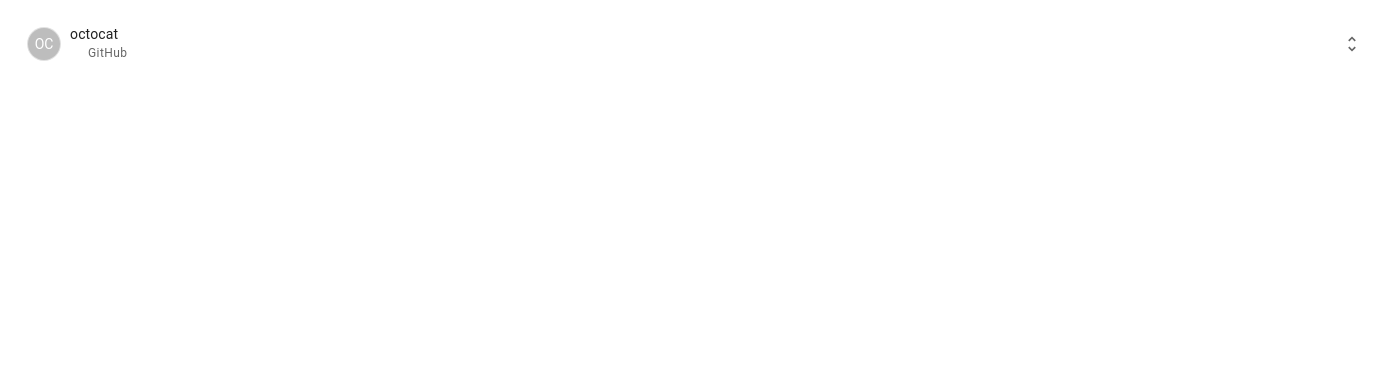
Test: Account › the open panel shows the header, the items with their icons and the theme parts
Click the button "OC octocat GitHub". click: (44, 44)
box: [12,12,1378,76]
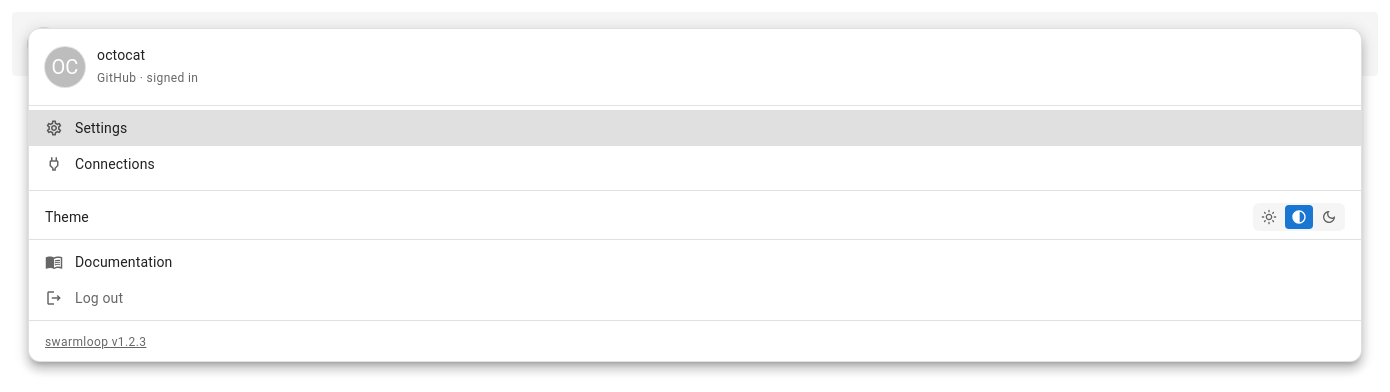
Result: the text "GitHub · signed in" is shown at [97,71,198,85]
